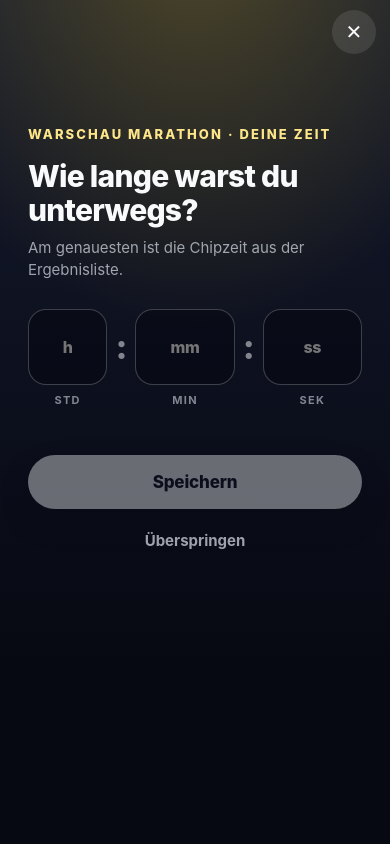
Test: FinishTimeInputStep › filtert Nicht-Ziffern
Type "1a" into the field named "Minuten" at (185, 347), box [135,309,235,385]
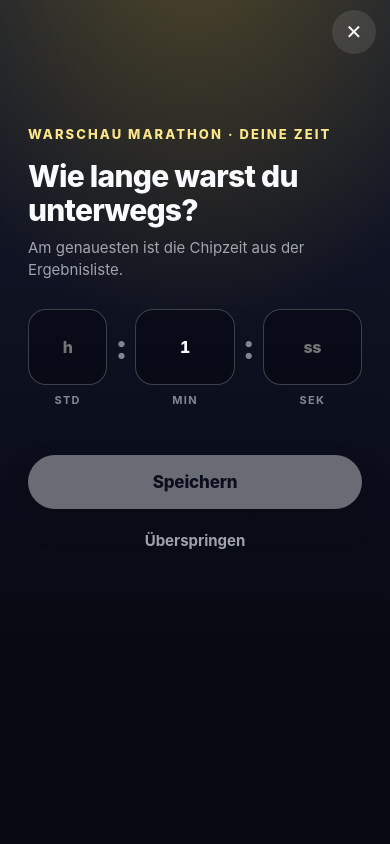
Expected: the field named "Minuten" holds "1", [135,309,235,385]
